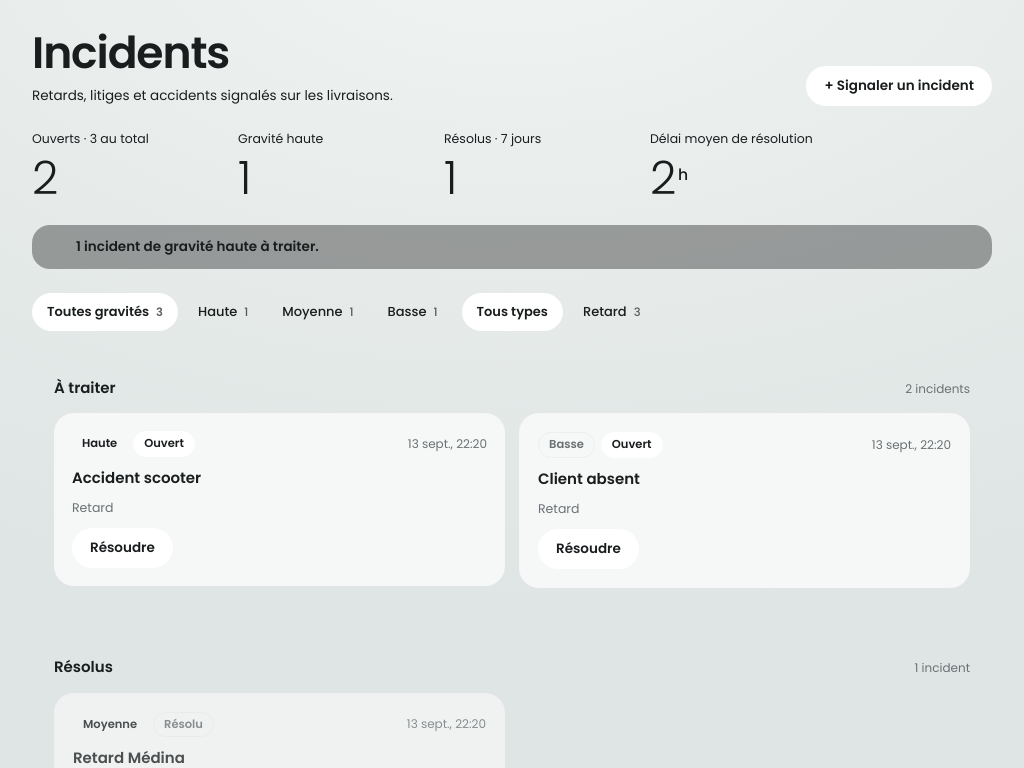
Scenario: IncidentsScreen › alerte puis filtre par gravité
expect the message shows "1 incident de gravité haute": met, box [32,225,992,270]
expect the button with aria-label "Résoudre « Accident scooter »" is shown: met, box [72,528,173,568]
Click the button "Basse 1" at (413, 312), box [374,293,452,331]
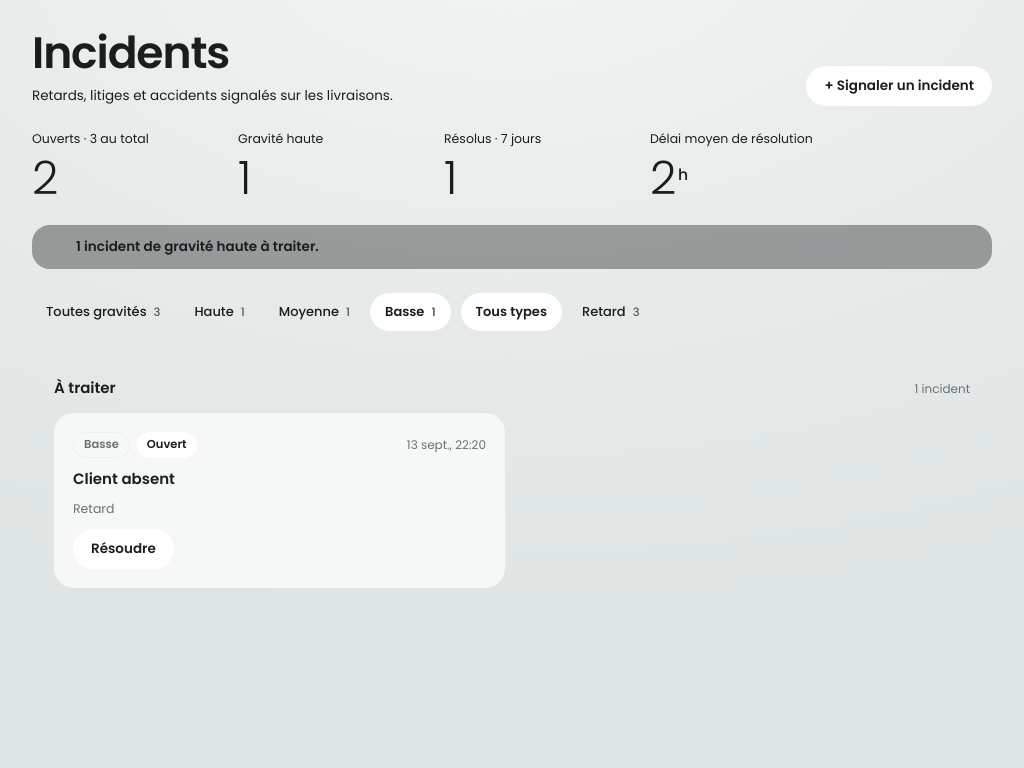
expect the heading "Client absent" is shown: met, box [73,468,175,489]
expect the heading "Accident scooter" is gone: met
